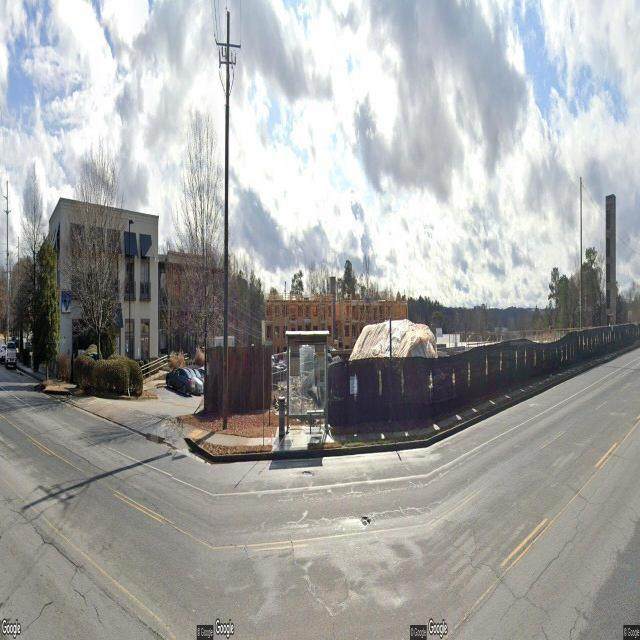seating: (307, 406, 324, 434)
shelter: (285, 330, 330, 440)
trash_can: (278, 397, 285, 438)
